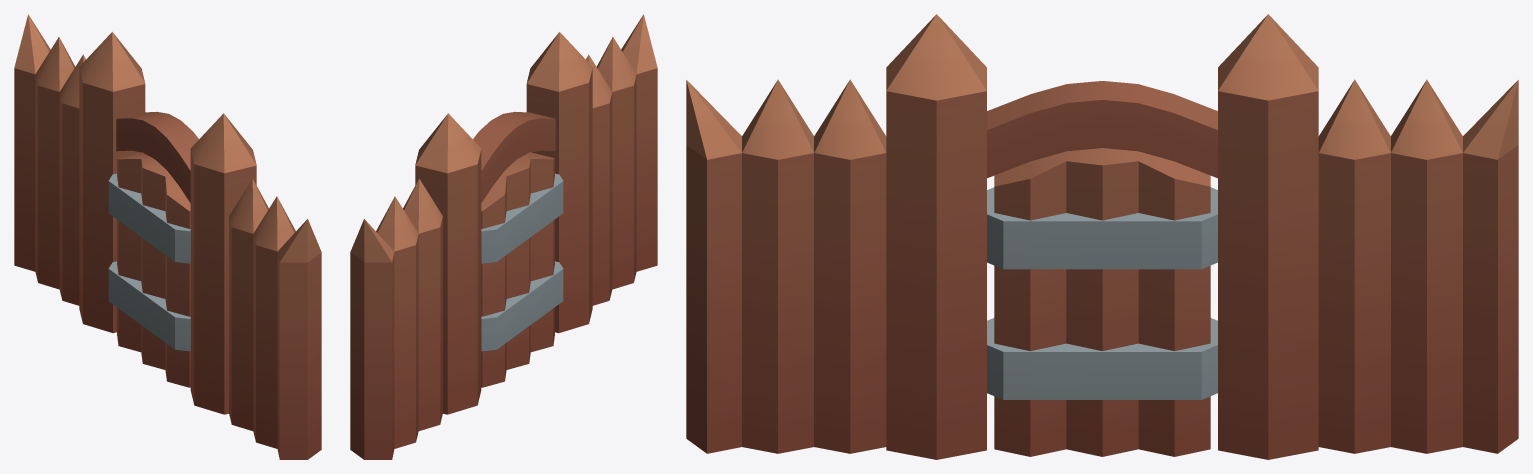
File: kay-cerca-madeira-portao.gltf
The picture shows the model from 3 angles, left to right: view 1: azimuth 30°, elevation 25°; view 2: azimuth 150°, elevation 25°; view 3: azimuth 270°, elevation 25°; orthographic projection. The views are drawn at different scales.
Parts seen in each view (by area): view 1: fence_wood_straight_gate; view 2: fence_wood_straight_gate; view 3: fence_wood_straight_gate.
Boxes of the visible parts, box(x1,y1,x2,y2) form: fence_wood_straight_gate: box(14, 14, 321, 459); fence_wood_straight_gate: box(350, 14, 657, 459); fence_wood_straight_gate: box(686, 14, 1518, 459).
Bounding box in the file's own units: 0.6999 × 3.25 × 5.77.
Materials: 1 (1 with a texture image).
